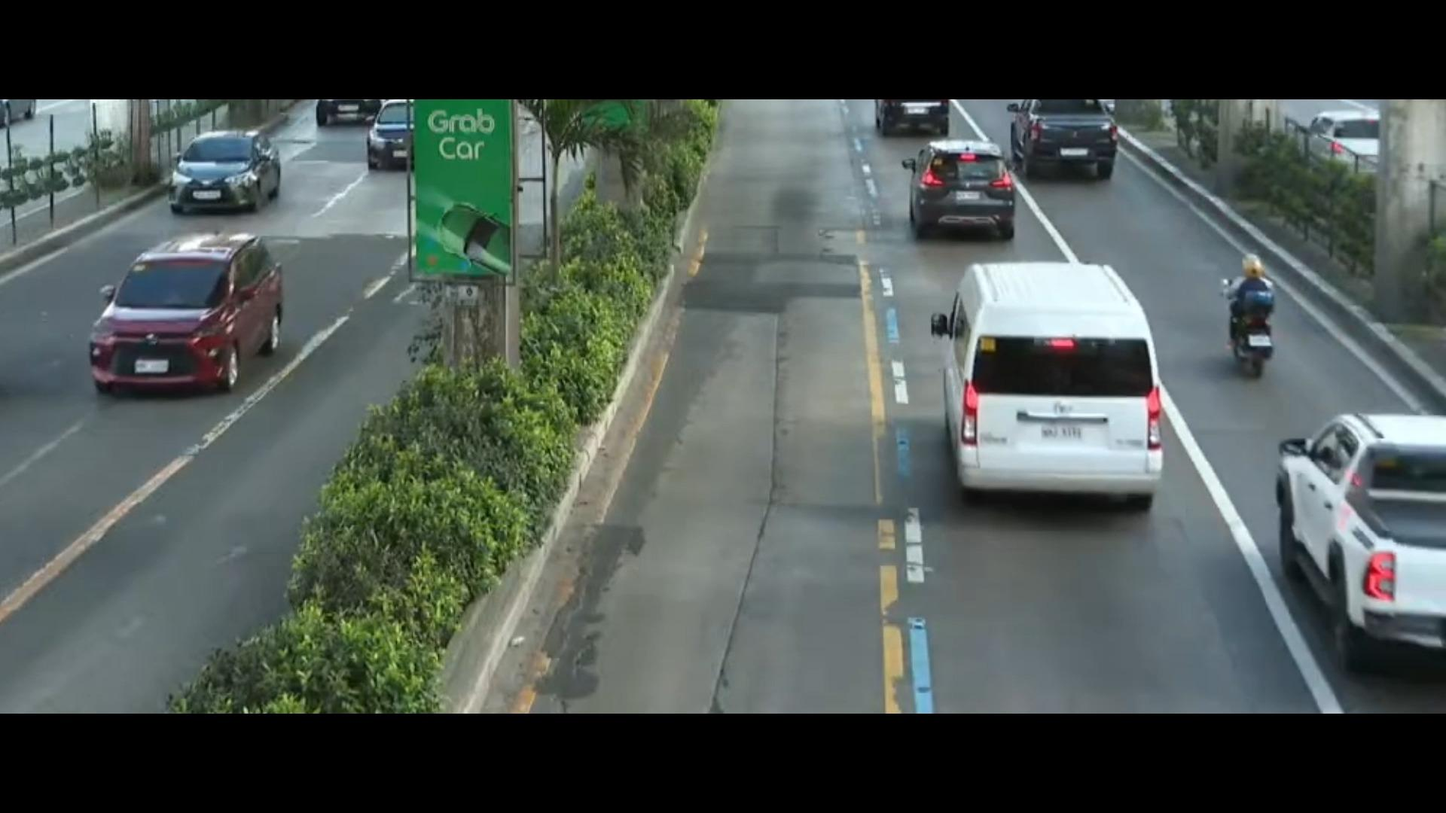Pickup: (1263, 384, 1446, 703), (1003, 100, 1136, 197)
SUV: (41, 210, 309, 420)
Sedan: (905, 121, 1028, 247), (157, 119, 300, 223)
Van: (926, 247, 1177, 516)
